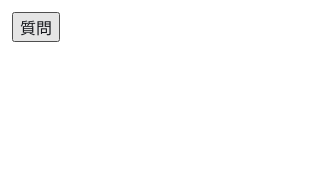
Scenario: FAQのARIA状態と回答表示を同期する
The width and height of the screenshot is (332, 172).
Later steps or results of the test are not shown.
Click the button "質問" at (36, 27), box [12,12,60,42]
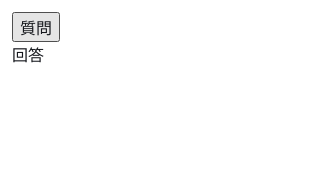
Now the text "回答" is shown, box [12,47,44,64]
